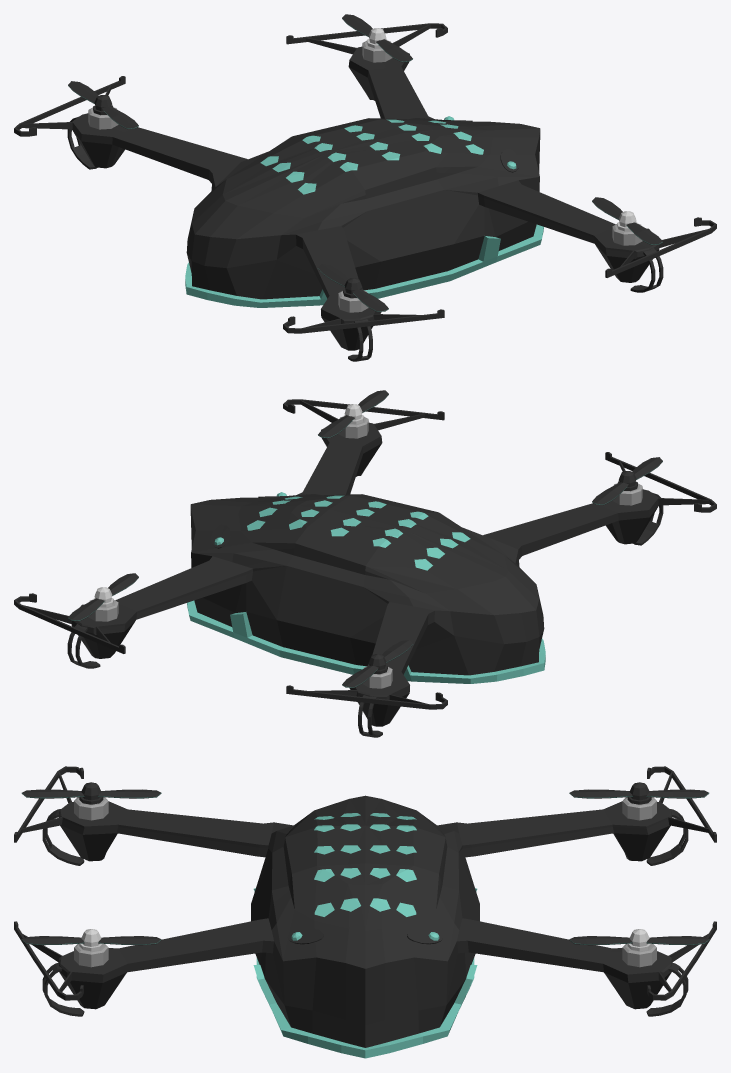
The model's file is Frog Drone.fbx.
3 views of the same model, one above another, from view 1: azimuth 30°, elevation 25°; view 2: azimuth 150°, elevation 25°; view 3: azimuth 270°, elevation 25° (orthographic). The views are drawn at different scales.
Parts seen in each view (by area): view 1: dron_3_body, FR_propeller, FL_propeller, BR_propeller, BL_propeller; view 2: dron_3_body, FL_propeller, FR_propeller, BL_propeller, BR_propeller; view 3: dron_3_body, BL_propeller, BR_propeller, FR_propeller, FL_propeller.
Part boxes in pixels (x1,y1,x2,y2): dron_3_body: (14, 23, 716, 361); FR_propeller: (592, 197, 662, 245); FL_propeller: (342, 14, 412, 62); BR_propeller: (318, 264, 388, 311); BL_propeller: (68, 81, 138, 129); dron_3_body: (14, 399, 716, 737); FL_propeller: (68, 573, 138, 621); FR_propeller: (318, 390, 388, 438); BL_propeller: (342, 640, 412, 687); BR_propeller: (592, 457, 662, 505); dron_3_body: (14, 766, 716, 1058); BL_propeller: (569, 782, 709, 804); BR_propeller: (21, 782, 161, 804); FR_propeller: (21, 929, 161, 951); FL_propeller: (569, 929, 709, 951).
Bounding box in the file's own units: 216 × 54.28 × 279.
2 materials, 2 textured.
